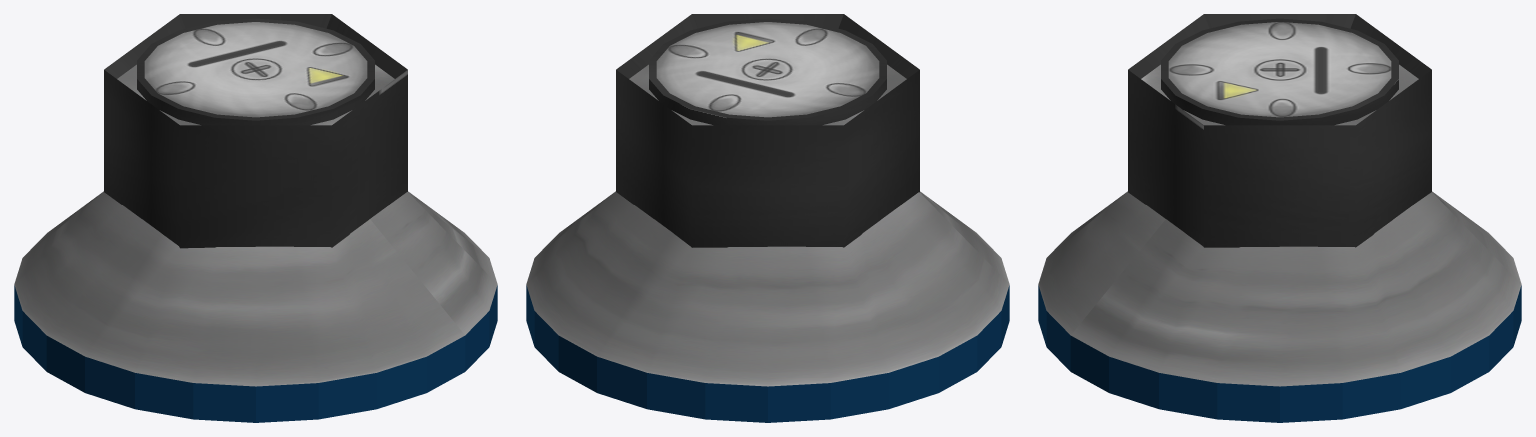
File: SkydockBase.FBX
The picture shows the model from 3 angles, left to right: view 1: azimuth 30°, elevation 25°; view 2: azimuth 150°, elevation 25°; view 3: azimuth 270°, elevation 25°; orthographic projection.
Visible parts, largest first — view 1: EndCap003, Cylinder001, Cylinder058; view 2: EndCap003, Cylinder001, Cylinder058; view 3: EndCap003, Cylinder001, Cylinder058.
Boxes of the visible parts, x1,y1,x2,y2 form: EndCap003: (14, 191, 497, 422); Cylinder001: (104, 14, 407, 248); Cylinder058: (137, 18, 374, 125); EndCap003: (526, 191, 1009, 422); Cylinder001: (616, 14, 919, 247); Cylinder058: (649, 18, 886, 125); EndCap003: (1038, 191, 1521, 422); Cylinder001: (1128, 14, 1431, 247); Cylinder058: (1161, 18, 1398, 125).
Size of what is drawn, in the model's own units: 1.25 by 1.25 by 0.716.
Materials: 1 (1 with a texture image).
